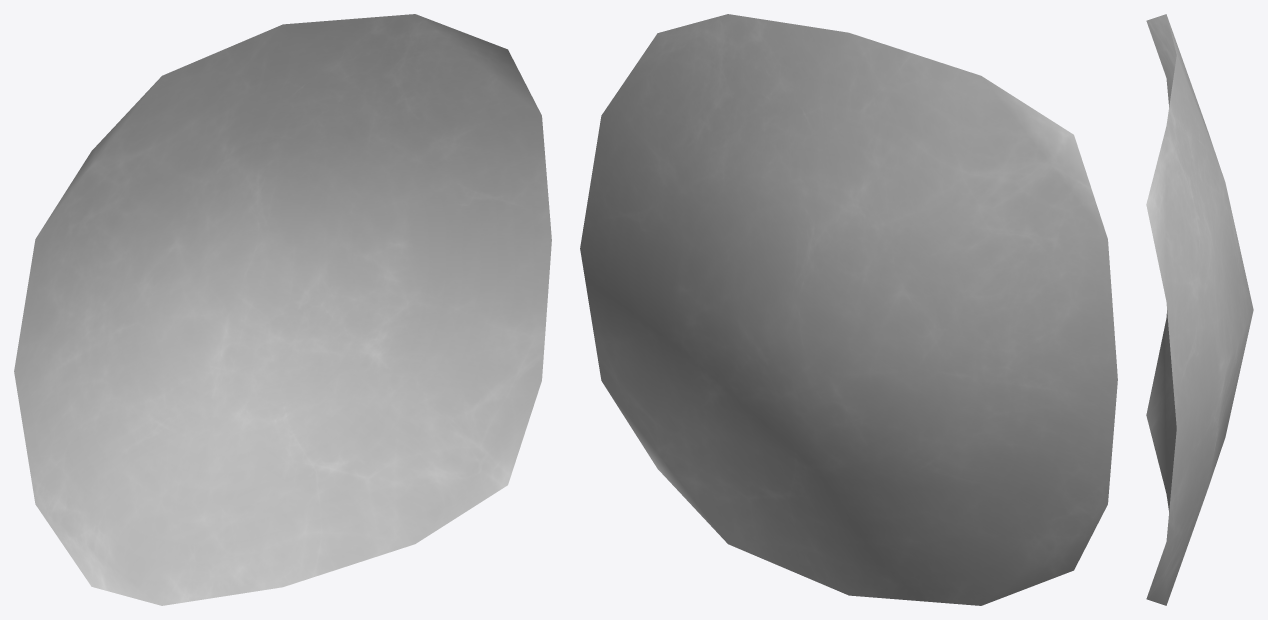
The model's file is Spiderweb1.fbx.
3 views of the same model, side by side, from view 1: azimuth 30°, elevation 25°; view 2: azimuth 150°, elevation 25°; view 3: azimuth 270°, elevation 25° (orthographic). The views are drawn at different scales.
Parts seen in each view (by area): view 1: pPlane1; view 2: pPlane1; view 3: pPlane1.
Boxes of the visible parts, x1,y1,x2,y2 form: pPlane1: [14, 14, 551, 605]; pPlane1: [580, 14, 1117, 605]; pPlane1: [1146, 14, 1253, 605].
Size of the model in its own units: 58.37 by 58.37 by 11.14.
Materials: 1 (1 with a texture image).
